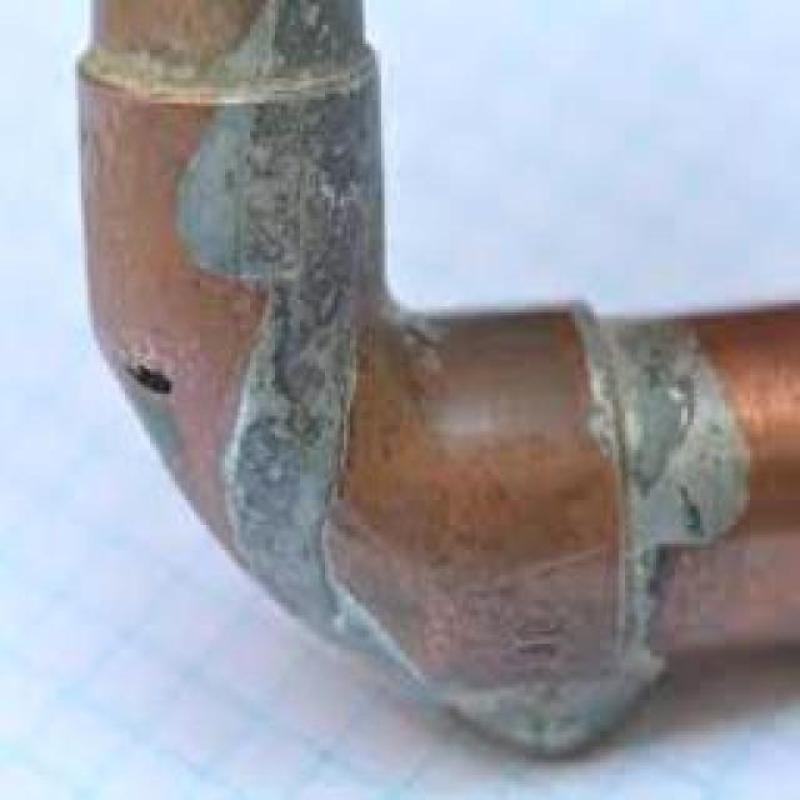corrosion: (73, 0, 768, 759)
